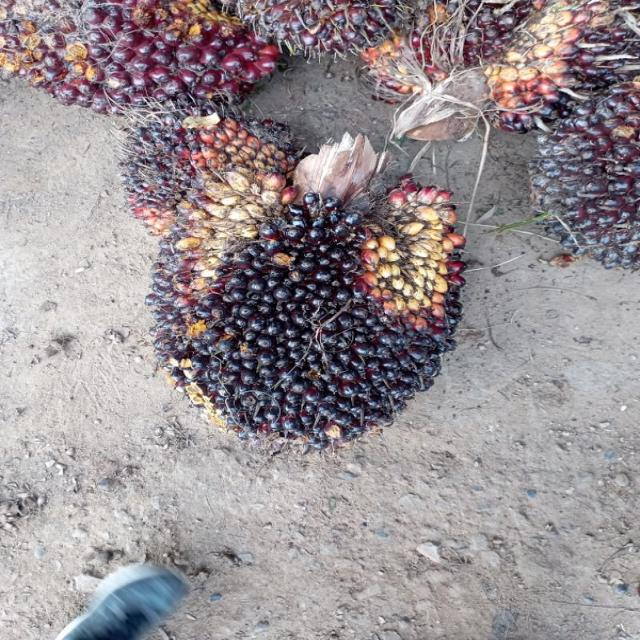fraksi 00: (158, 160, 468, 472), (99, 101, 315, 235)
